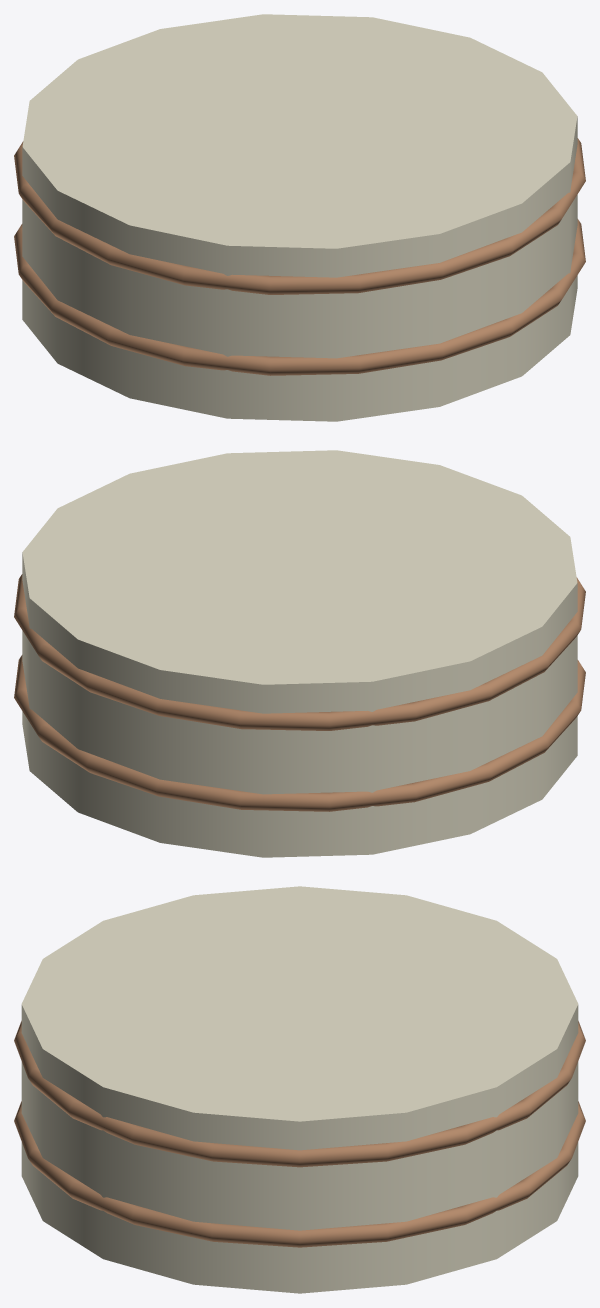
The model's file is survival-food-and-preservation-cheese-wheel-7b3ae044__21753.glb.
The picture shows the model from 3 angles, top to bottom: view 1: azimuth 30°, elevation 25°; view 2: azimuth 150°, elevation 25°; view 3: azimuth 270°, elevation 25°; orthographic projection.
Visible parts, largest first — view 1: cheese-wheel; view 2: cheese-wheel; view 3: cheese-wheel.
Boxes of the visible parts, bbox=[...] form: cheese-wheel: bbox=[14, 14, 585, 421]; cheese-wheel: bbox=[14, 450, 585, 857]; cheese-wheel: bbox=[14, 886, 585, 1293].
Size of the model in its own units: 0.226 by 0.075 by 0.226.
